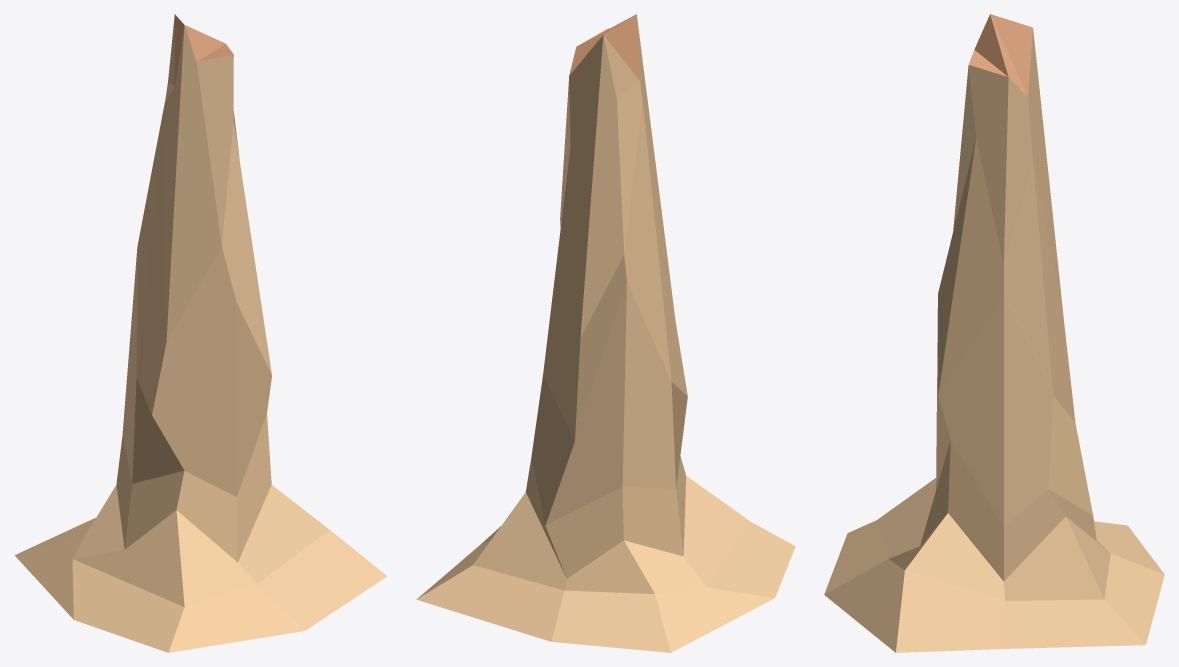
The model's file is Dead Tree 7.fbx.
3 views of the same model, side by side, from view 1: azimuth 30°, elevation 25°; view 2: azimuth 150°, elevation 25°; view 3: azimuth 270°, elevation 25° (orthographic).
Visible parts, largest first — view 1: Dead Tree 7; view 2: Dead Tree 7; view 3: Dead Tree 7.
Part boxes in pixels (box(x1,y1,x2,y2)): Dead Tree 7: box(14, 14, 386, 652); Dead Tree 7: box(416, 14, 795, 652); Dead Tree 7: box(824, 14, 1164, 652).
Bounding box in the file's own units: 85.11 × 161 × 88.69.
